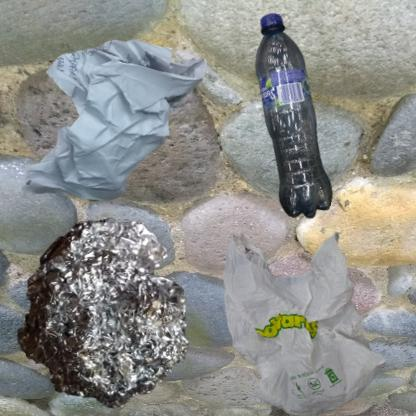aluminio: (10, 213, 193, 416)
bolsa: (213, 213, 401, 416)
botella: (213, 10, 392, 252)
papel: (10, 10, 226, 256)
